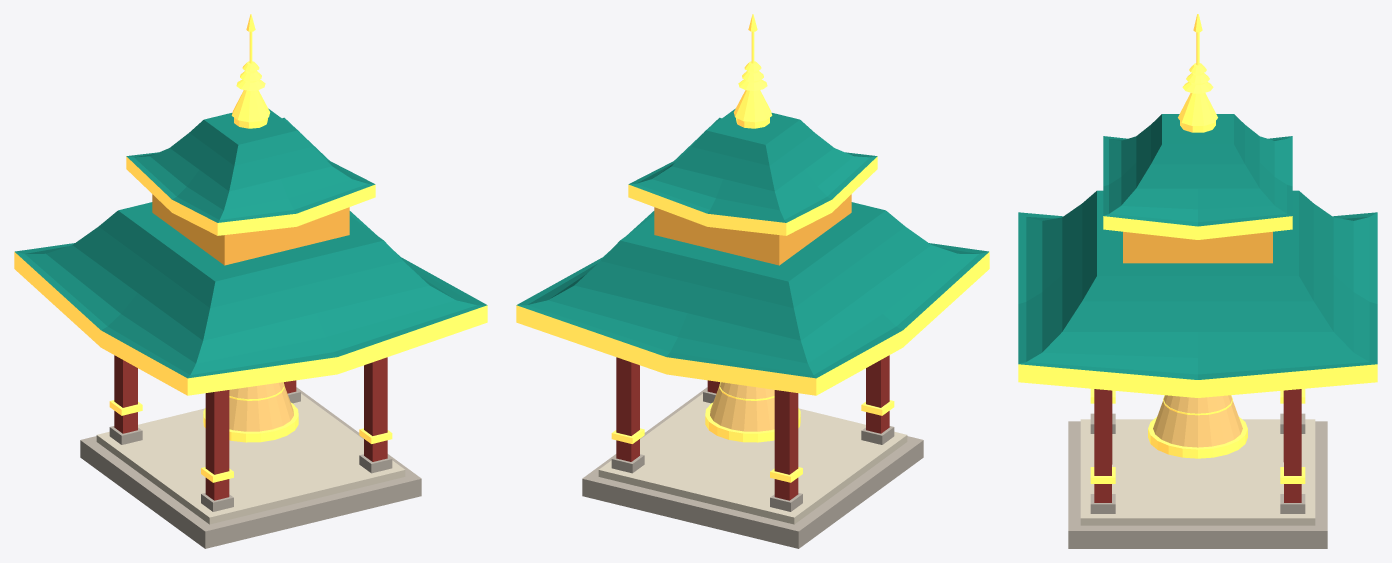
The model's file is bell-tower.glb.
3 renders of one model, left to right at view 1: azimuth 30°, elevation 25°; view 2: azimuth 150°, elevation 25°; view 3: azimuth 270°, elevation 25°, orthographic. The views are drawn at different scales.
Visible parts, largest first — view 1: bell-tower; view 2: bell-tower; view 3: bell-tower.
Boxes of the visible parts, x1,y1,x2,y2 form: bell-tower: [14, 14, 487, 548]; bell-tower: [516, 14, 989, 548]; bell-tower: [1018, 14, 1377, 548].
Size of the model in its own units: 7.2 by 10.61 by 7.2.
